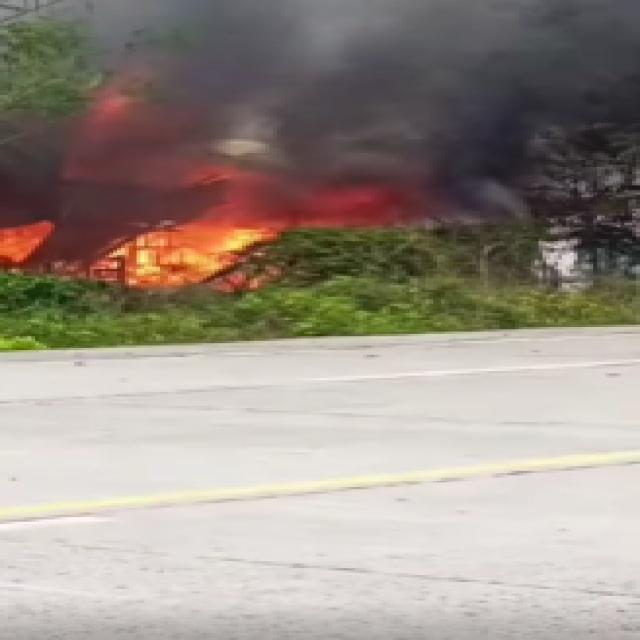Fire: (27, 178, 310, 308)
Smoke: (98, 13, 536, 236)
